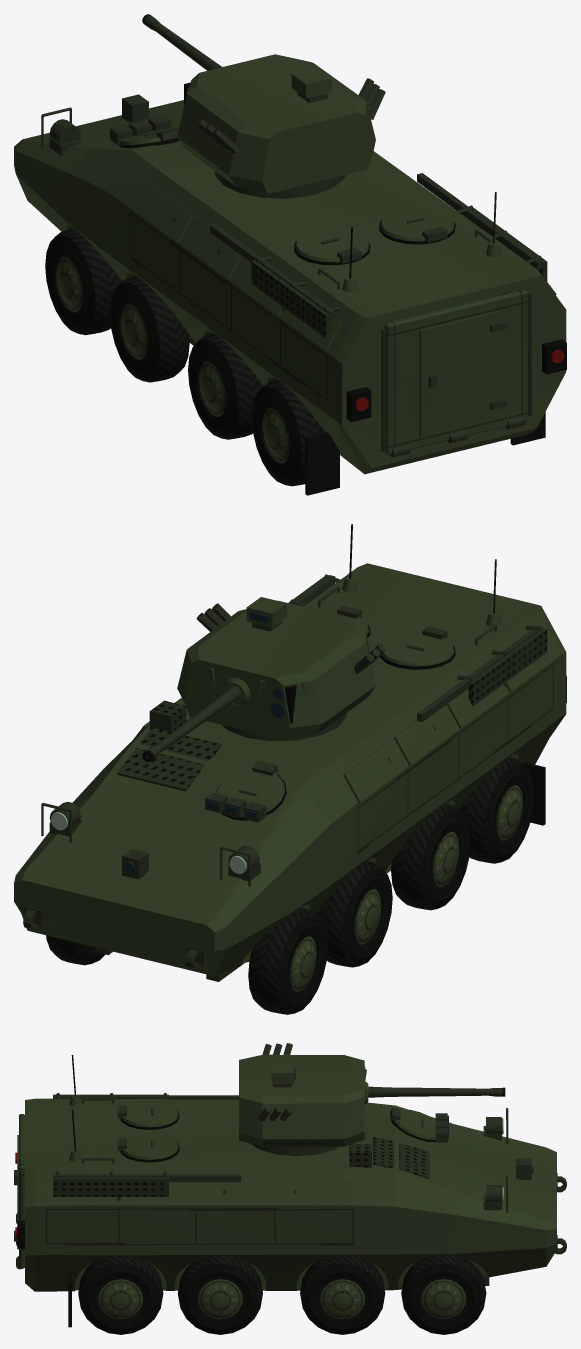
File: cannon_apc.glb
3 views of the same model, one above another, from view 1: azimuth 30°, elevation 25°; view 2: azimuth 150°, elevation 25°; view 3: azimuth 270°, elevation 25° (orthographic). The views are drawn at different scales.
Visible parts, largest first — view 1: hull, dragoon_turret, ramp, wheel_L_2, wheel_L_3, wheel_L_1, wheel_L_0, dragoon_cannon; view 2: hull, dragoon_turret, wheel_L_3, wheel_L_1, wheel_L_2, wheel_L_0, dragoon_cannon, wheel_R_3; view 3: hull, dragoon_turret, wheel_R_3, wheel_R_2, wheel_R_0, wheel_R_1, dragoon_cannon, ramp.
Part boxes in pixels (x1,y1,x2,y2): hull: (14, 94, 566, 495); dragoon_turret: (177, 54, 385, 198); ramp: (384, 289, 527, 454); wheel_L_2: (110, 276, 189, 382); wheel_L_3: (45, 228, 122, 335); wheel_L_1: (188, 333, 263, 439); wheel_L_0: (251, 380, 324, 486); dragoon_cannon: (142, 14, 221, 70); hull: (14, 524, 566, 981); dragoon_turret: (177, 597, 385, 741); wheel_L_3: (248, 908, 327, 1014); wheel_L_1: (391, 803, 470, 910); wheel_L_2: (316, 861, 392, 967); wheel_L_0: (459, 757, 534, 863); dragoon_cannon: (142, 677, 250, 761); wheel_R_3: (46, 935, 105, 965); hull: (15, 1055, 566, 1327); dragoon_turret: (239, 1043, 366, 1156); wheel_R_3: (401, 1255, 486, 1334); wheel_R_2: (300, 1255, 385, 1334); wheel_R_0: (78, 1256, 163, 1334); wheel_R_1: (177, 1256, 262, 1334); dragoon_cannon: (364, 1081, 505, 1104); ramp: (14, 1114, 24, 1268).
Size of the model in its own units: 2.91 by 3.42 by 7.33.
Materials: 1 (1 with a texture image).
